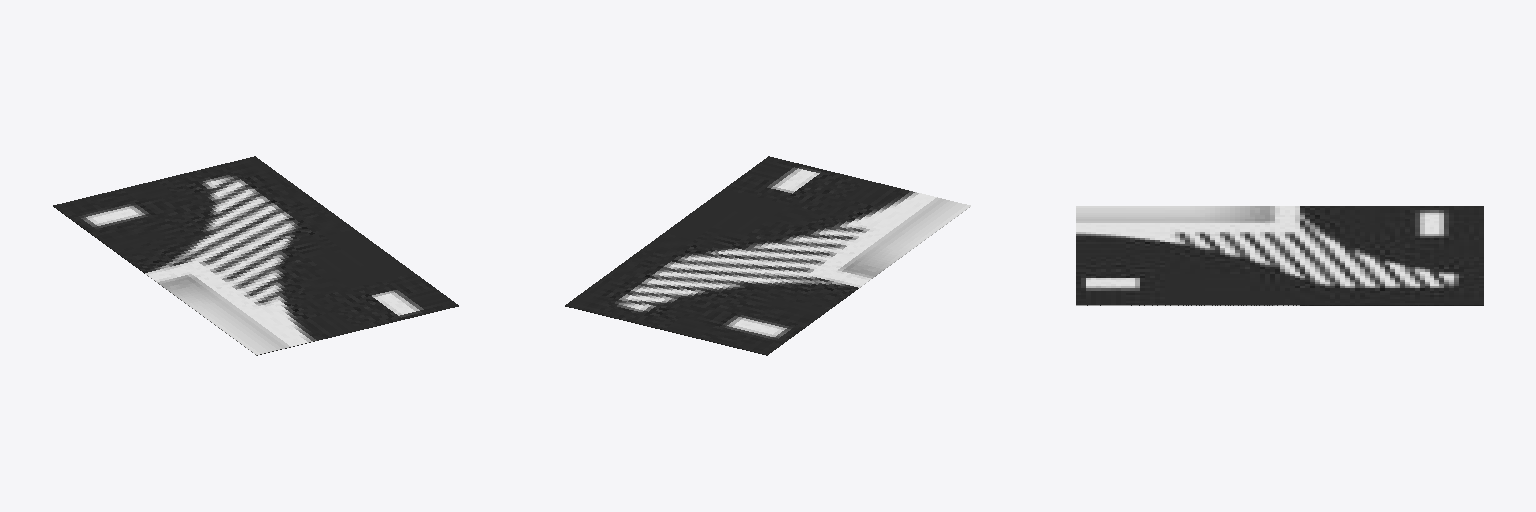
3 renders of one model, left to right at view 1: azimuth 30°, elevation 25°; view 2: azimuth 150°, elevation 25°; view 3: azimuth 270°, elevation 25°, orthographic.
Visible parts, largest first — view 1: Mesh1 Group1 Model; view 2: Mesh1 Group1 Model; view 3: Mesh1 Group1 Model.
Part boxes in pixels (x1,y1,x2,y2): Mesh1 Group1 Model: (53,156,458,355); Mesh1 Group1 Model: (565,156,970,355); Mesh1 Group1 Model: (1076,206,1483,305).
Size of the model in its own units: 2188 by 5 by 3817.
Materials: 1 (1 with a texture image).